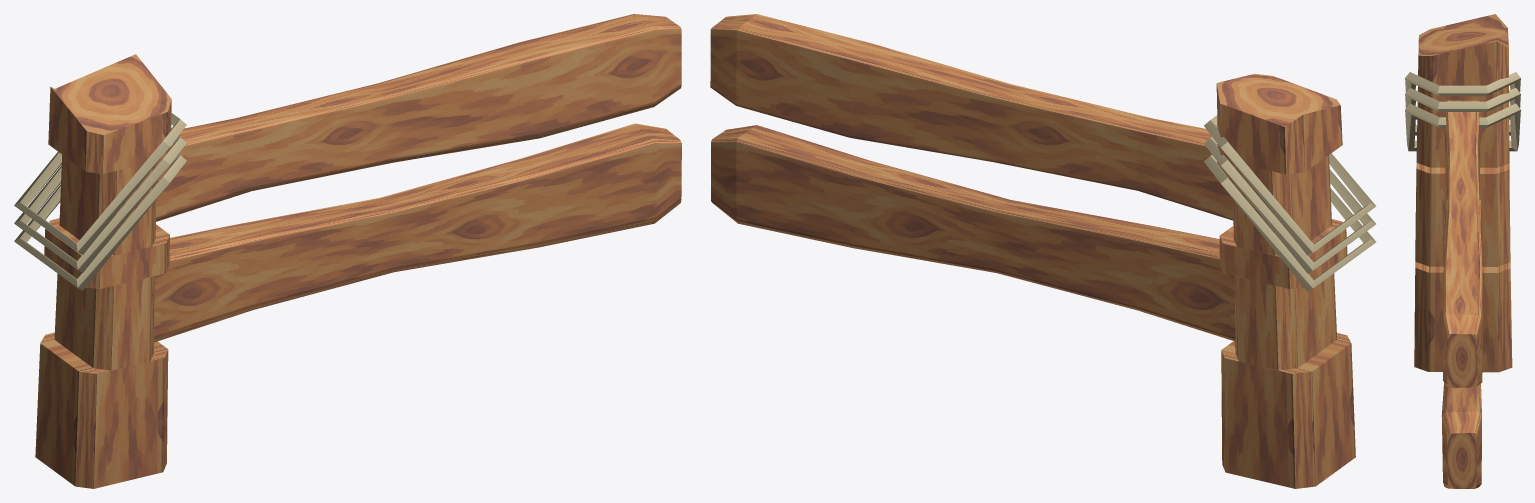
The model's file is fence_w_200_b.glb.
The picture shows the model from 3 angles, left to right: view 1: azimuth 30°, elevation 25°; view 2: azimuth 150°, elevation 25°; view 3: azimuth 270°, elevation 25°; orthographic projection. The views are drawn at different scales.
Visible parts, largest first — view 1: fence_w_200_b; view 2: fence_w_200_b; view 3: fence_w_200_b.
Part boxes in pixels (bbox=[...]): fence_w_200_b: bbox=[14, 14, 681, 488]; fence_w_200_b: bbox=[710, 14, 1376, 488]; fence_w_200_b: bbox=[1405, 14, 1520, 488].
Bounding box in the file's own units: 2.2 × 1.27 × 0.3989.
Materials: 1 (1 with a texture image).
